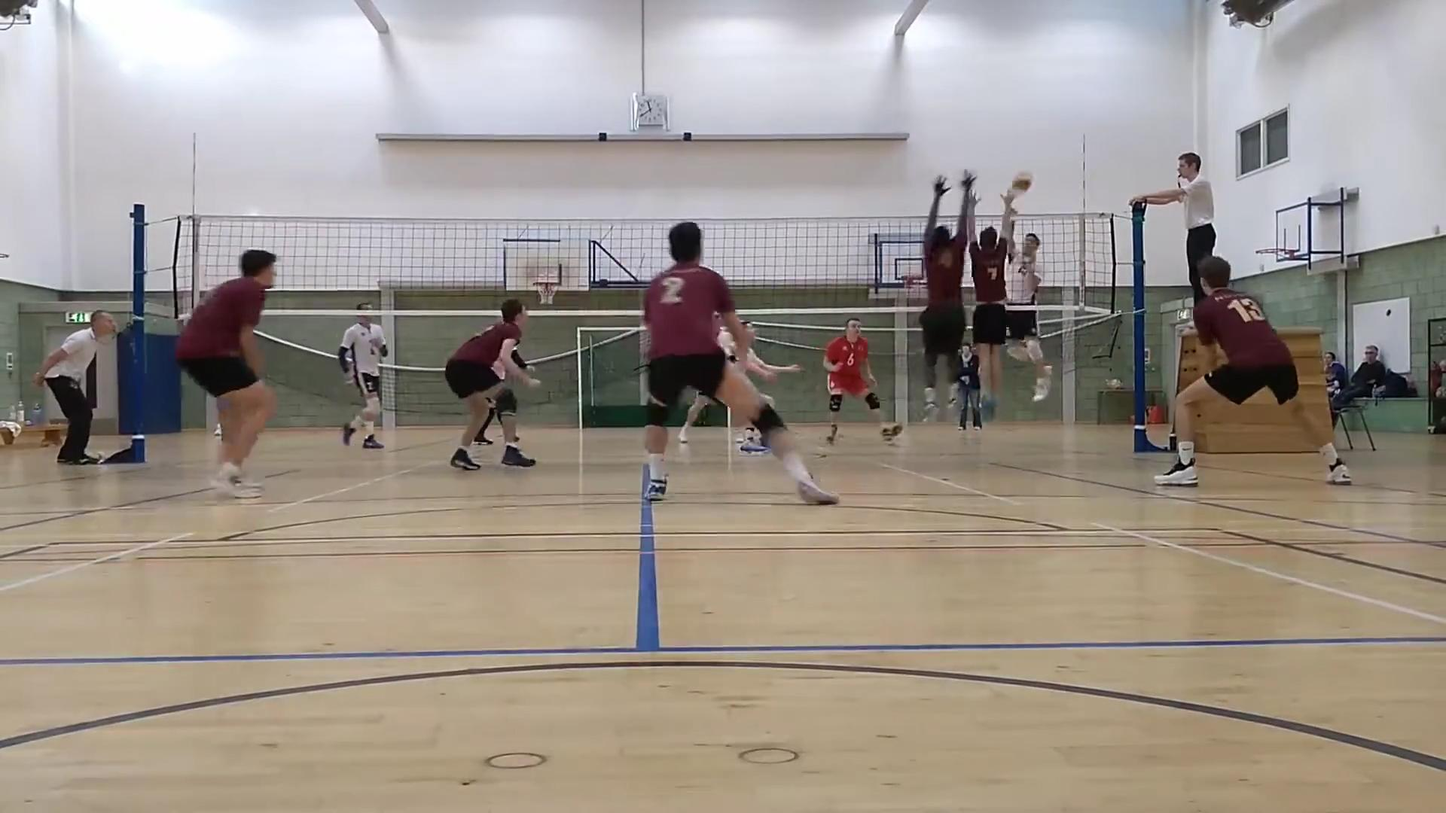attacco: (991, 195, 1059, 407)
muro: (910, 172, 971, 410), (967, 191, 1020, 417)
